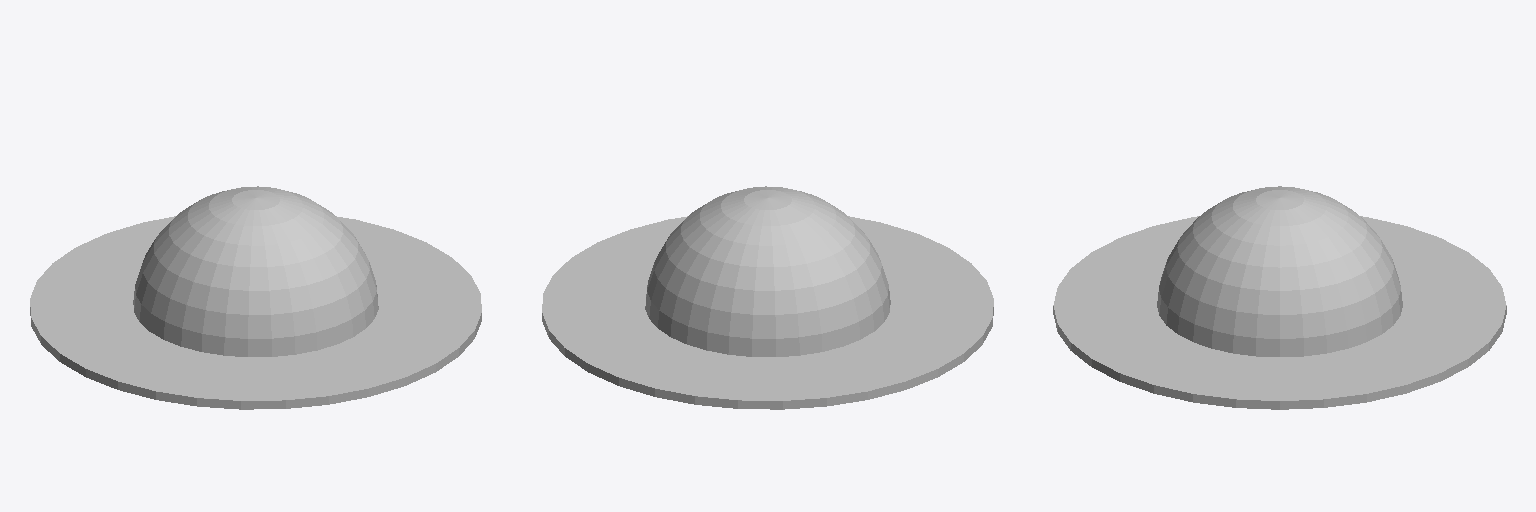
The model's file is chapeu.obj.
The picture shows the model from 3 angles: view 1: azimuth 30°, elevation 25°; view 2: azimuth 150°, elevation 25°; view 3: azimuth 270°, elevation 25°; orthographic projection.
Parts seen in each view (by area): view 1: Cylinder; view 2: Cylinder; view 3: Cylinder.
Part boxes in pixels (x1,y1,x2,y2): Cylinder: (30, 186, 481, 409); Cylinder: (542, 186, 993, 409); Cylinder: (1053, 186, 1506, 409).
Bounding box in the file's own units: 0.7382 × 0.2089 × 0.7382.